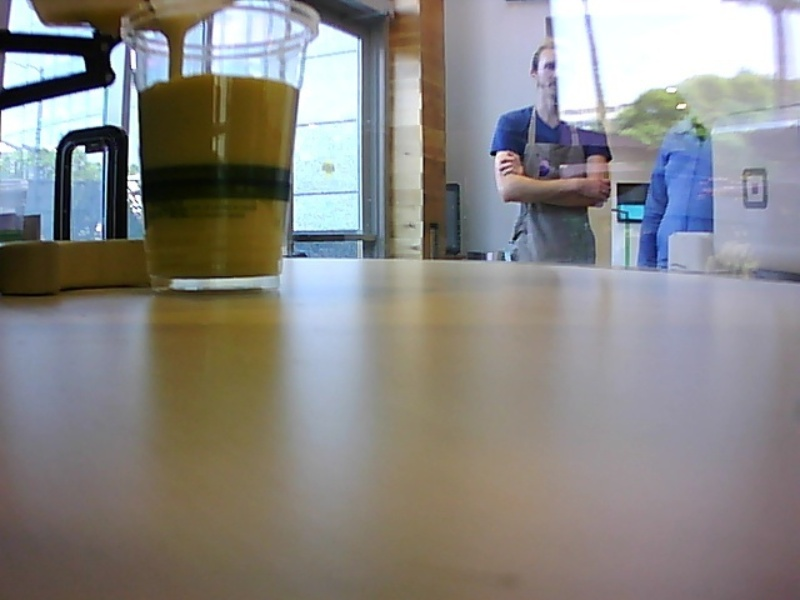cup: (113, 1, 324, 292)
limit: (135, 63, 301, 99)
